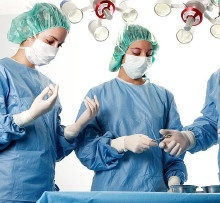Mask: (23, 25, 67, 69)
